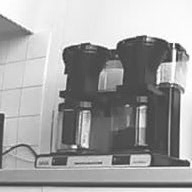not empty coffee: (108, 95, 166, 151)
